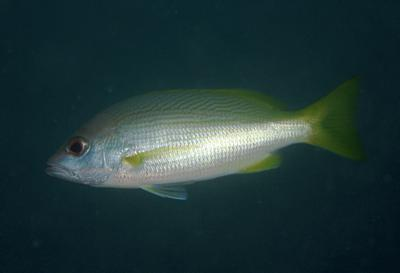Lutjanidae -Snappers-: (40, 68, 370, 206)
